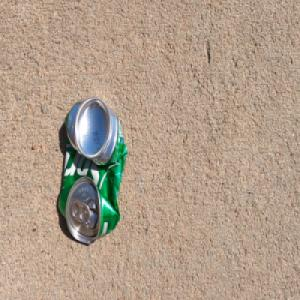SodaCan: (57, 96, 128, 245)
